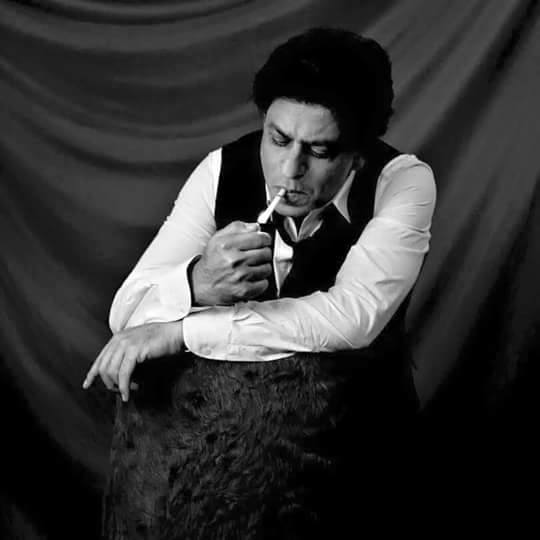cigarette: (258, 185, 291, 228)
